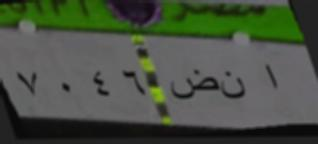0: (59, 75, 73, 101)
4: (91, 67, 111, 102)
6: (119, 67, 147, 100)
7: (16, 67, 41, 98)
alif: (258, 59, 282, 91)
daad: (168, 68, 219, 105)
noon: (220, 68, 246, 106)
